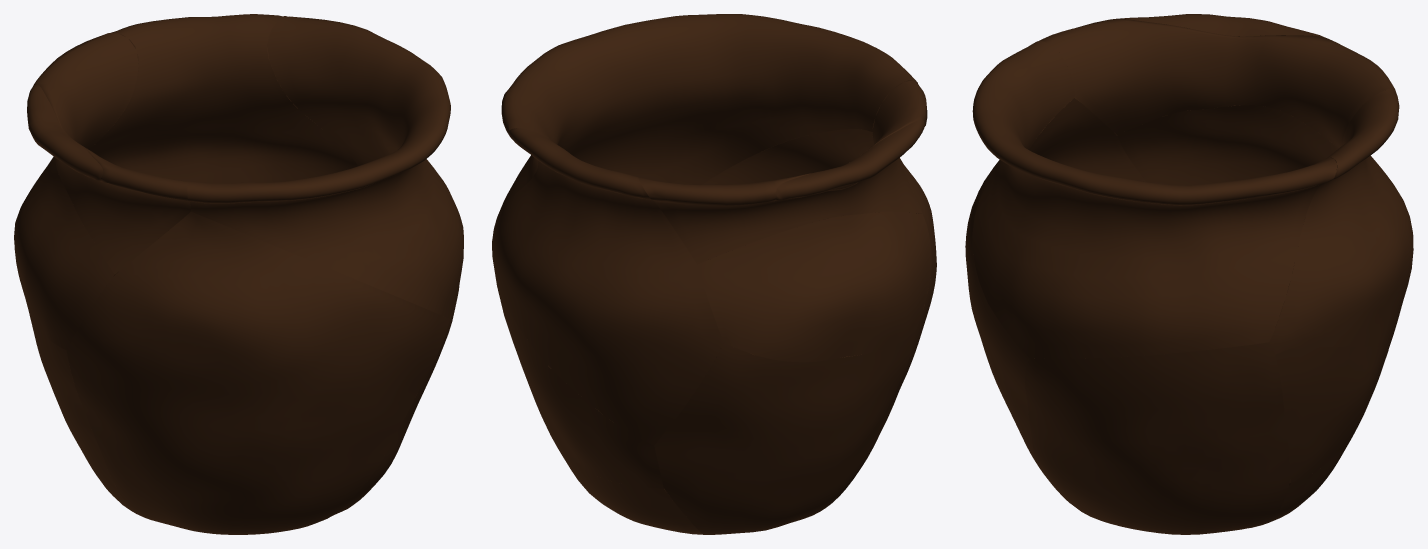
The model's file is cup_frags.fbx.
3 renders of one model, left to right at view 1: azimuth 30°, elevation 25°; view 2: azimuth 150°, elevation 25°; view 3: azimuth 270°, elevation 25°, orthographic.
Visible parts, largest first — view 1: cup_02_v_010, cup_02_v_006, cup_02_v_009, cup_02_v_003, cup_02_v_005, cup_02_v_002, cup_02_v_008, cup_02_v_007; view 2: cup_02_v_006, cup_02_v_009, cup_02_v_002, cup_02_v_005, cup_02_v_003, cup_02_v_001, cup_02_v_010, cup_02_v_004, cup_02_v_008; view 3: cup_02_v_006, cup_02_v_007, cup_02_v_003, cup_02_v_009, cup_02_v_005, cup_02_v_001, cup_02_v_010, cup_02_v_008, cup_02_v_004.
Boxes of the visible parts, <box> form: cup_02_v_010: <box>66,211,449,534</box>; cup_02_v_006: <box>187,16,463,318</box>; cup_02_v_009: <box>90,14,357,183</box>; cup_02_v_003: <box>33,33,190,274</box>; cup_02_v_005: <box>14,148,114,349</box>; cup_02_v_002: <box>21,286,135,513</box>; cup_02_v_008: <box>27,83,103,180</box>; cup_02_v_007: <box>333,287,459,515</box>; cup_02_v_006: <box>496,14,917,221</box>; cup_02_v_009: <box>492,128,723,445</box>; cup_02_v_002: <box>654,329,916,534</box>; cup_02_v_005: <box>697,211,931,362</box>; cup_02_v_003: <box>638,80,927,264</box>; cup_02_v_001: <box>494,267,663,488</box>; cup_02_v_010: <box>701,129,936,489</box>; cup_02_v_004: <box>556,445,704,534</box>; cup_02_v_008: <box>776,119,924,199</box>; cup_02_v_006: <box>972,41,1336,358</box>; cup_02_v_007: <box>1025,342,1290,534</box>; cup_02_v_003: <box>1039,18,1394,148</box>; cup_02_v_009: <box>1269,88,1413,354</box>; cup_02_v_005: <box>1115,105,1338,185</box>; cup_02_v_001: <box>1275,346,1388,483</box>; cup_02_v_010: <box>965,97,1145,473</box>; cup_02_v_008: <box>1119,14,1326,38</box>; cup_02_v_004: <box>1271,447,1346,521</box>.
Bounding box in the file's own units: 10.32 × 9.88 × 10.31.
